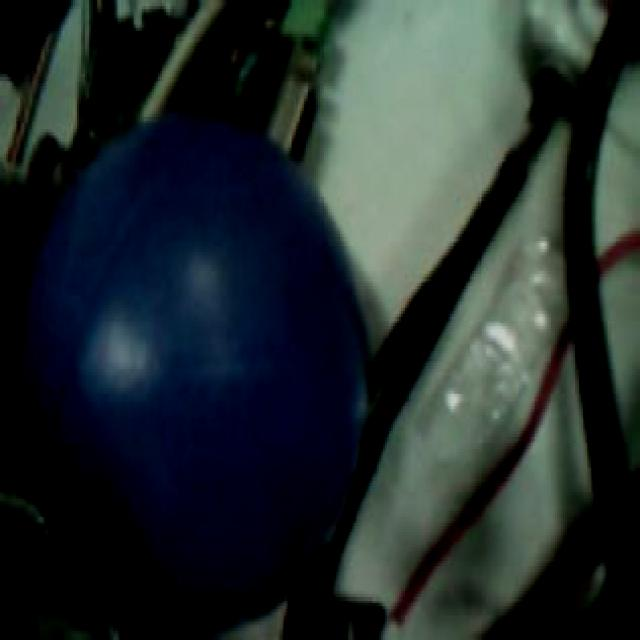BallPurple: (23, 111, 367, 627)
